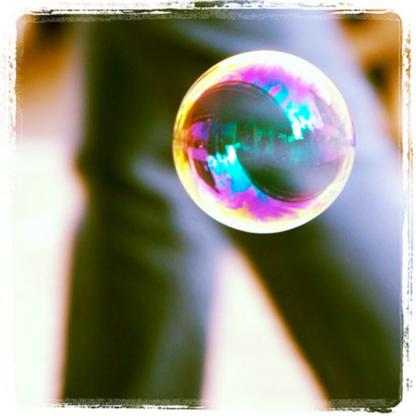Ball: (171, 49, 356, 234)
